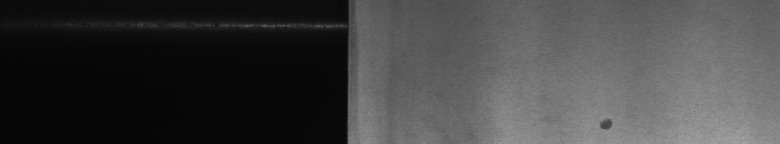fi: (596, 112, 619, 136)
